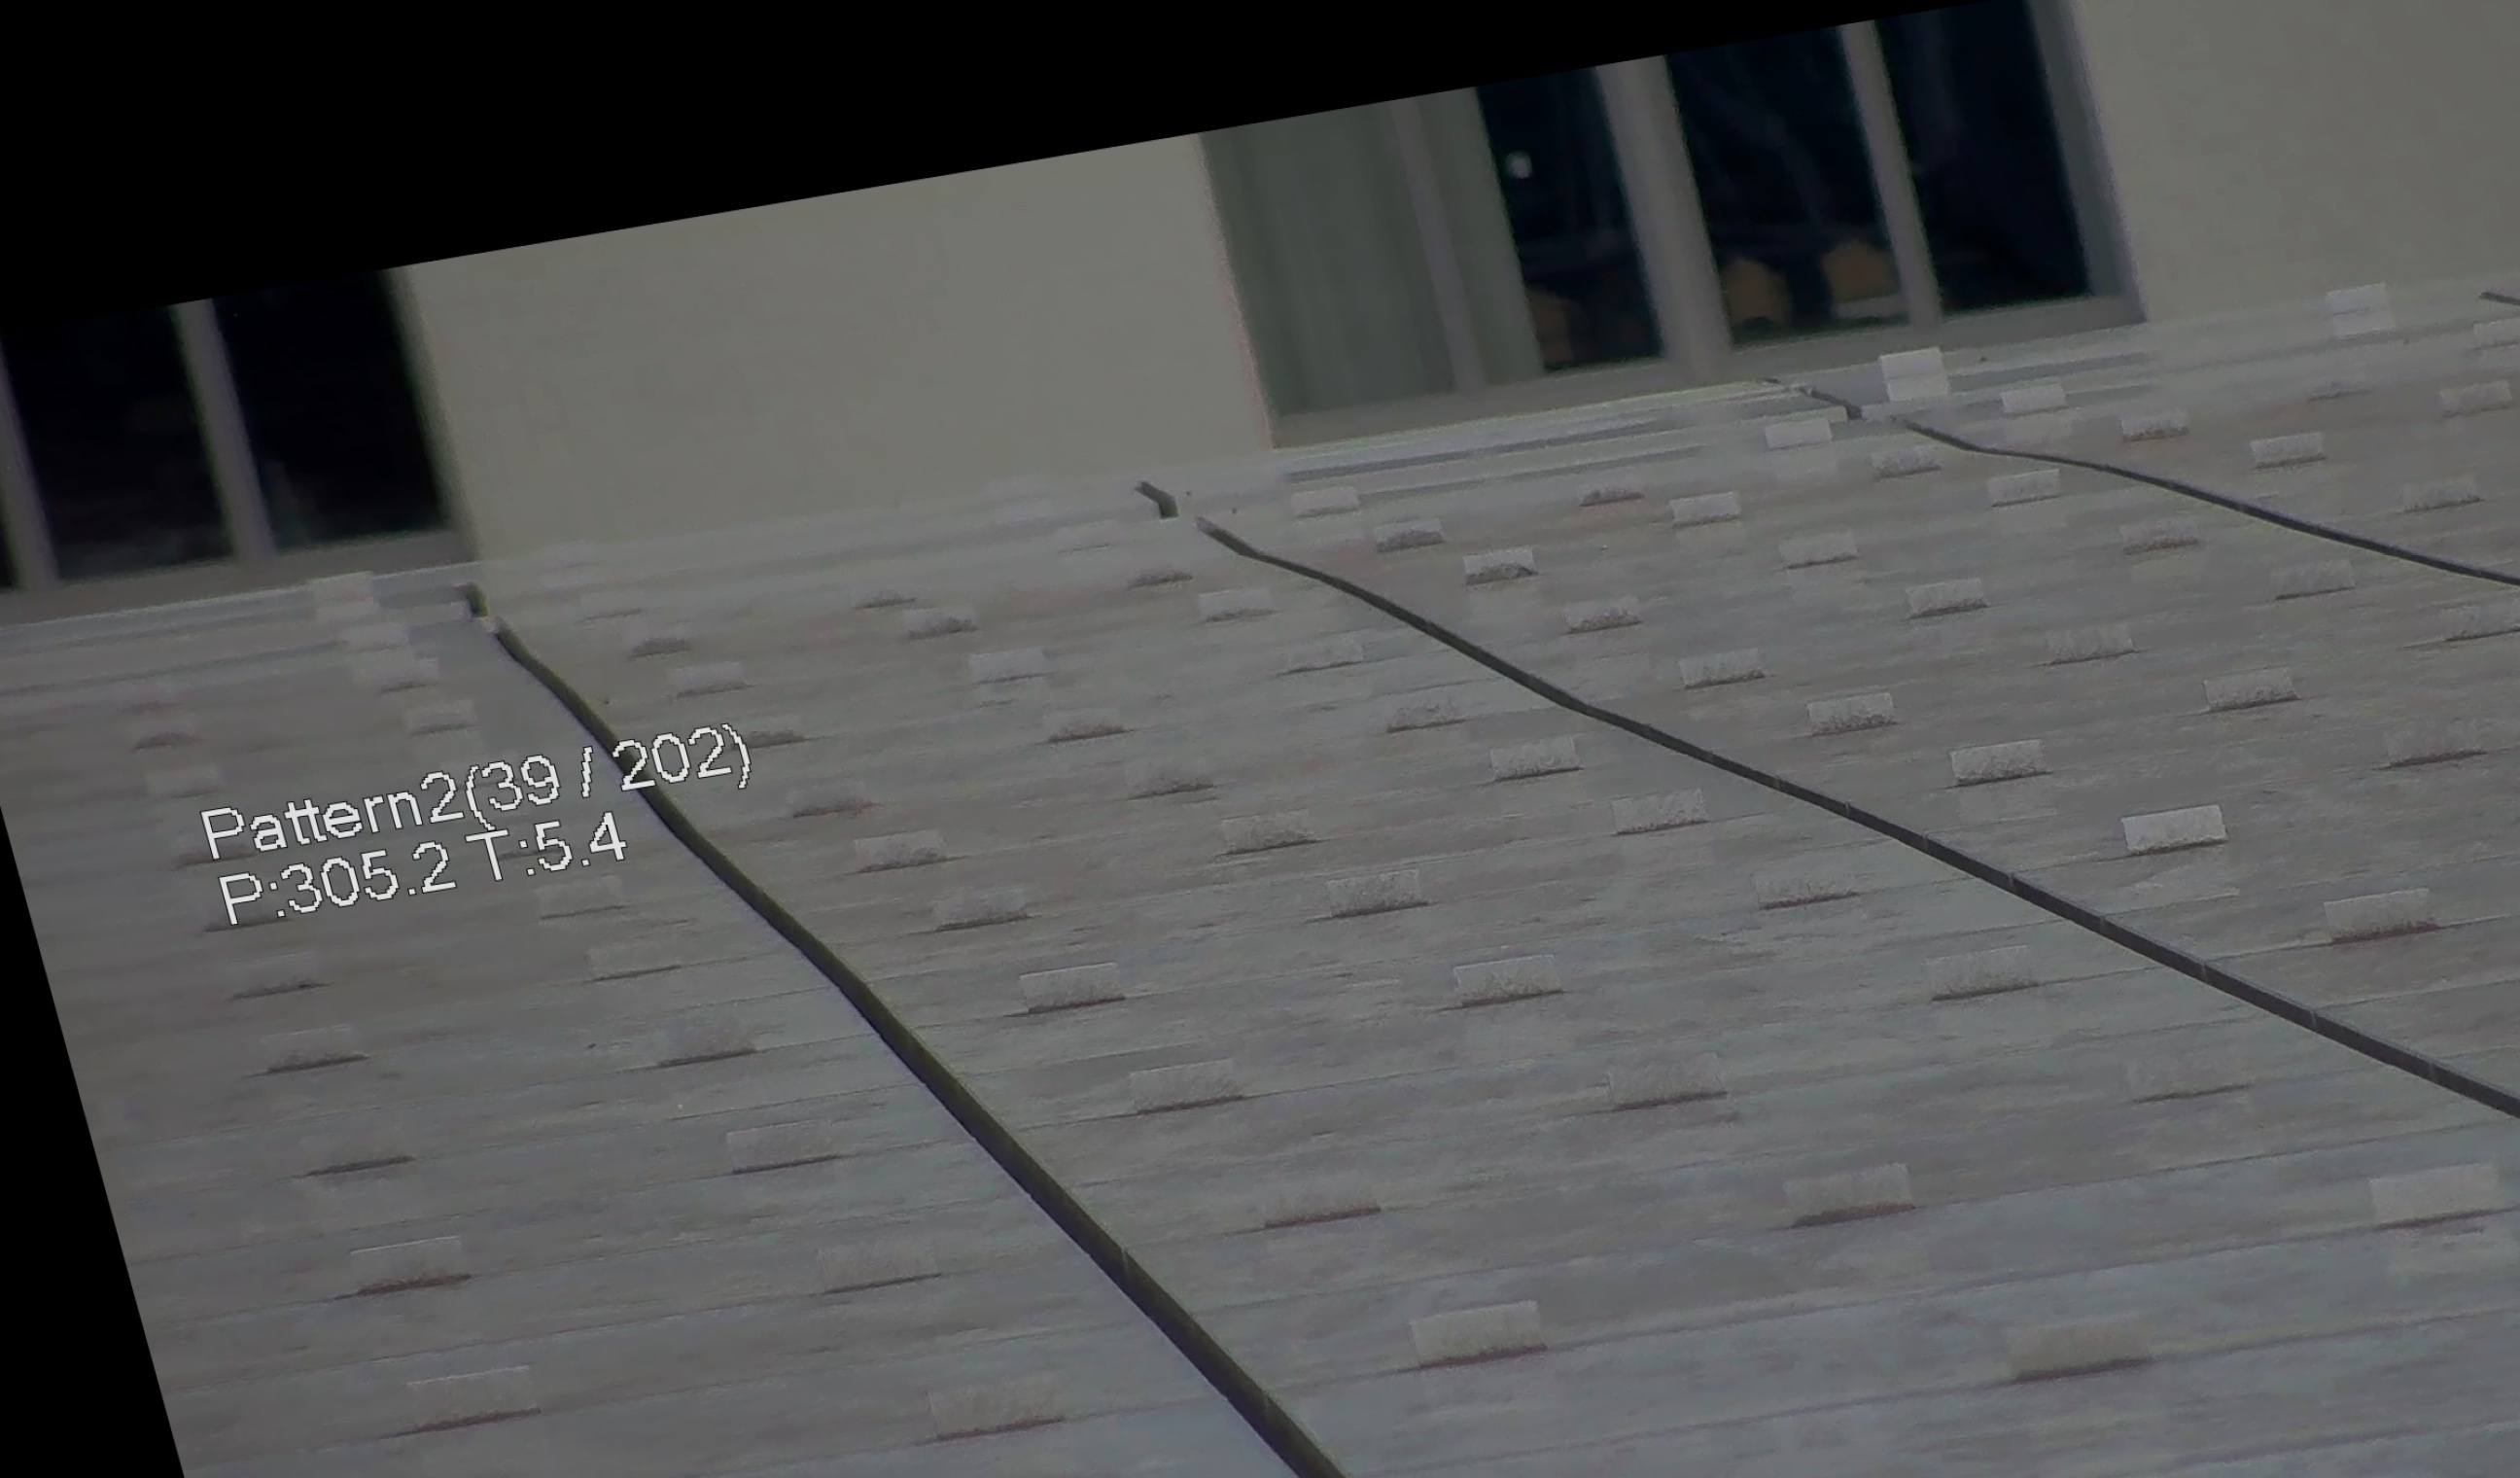Other: (422, 567, 623, 806)
